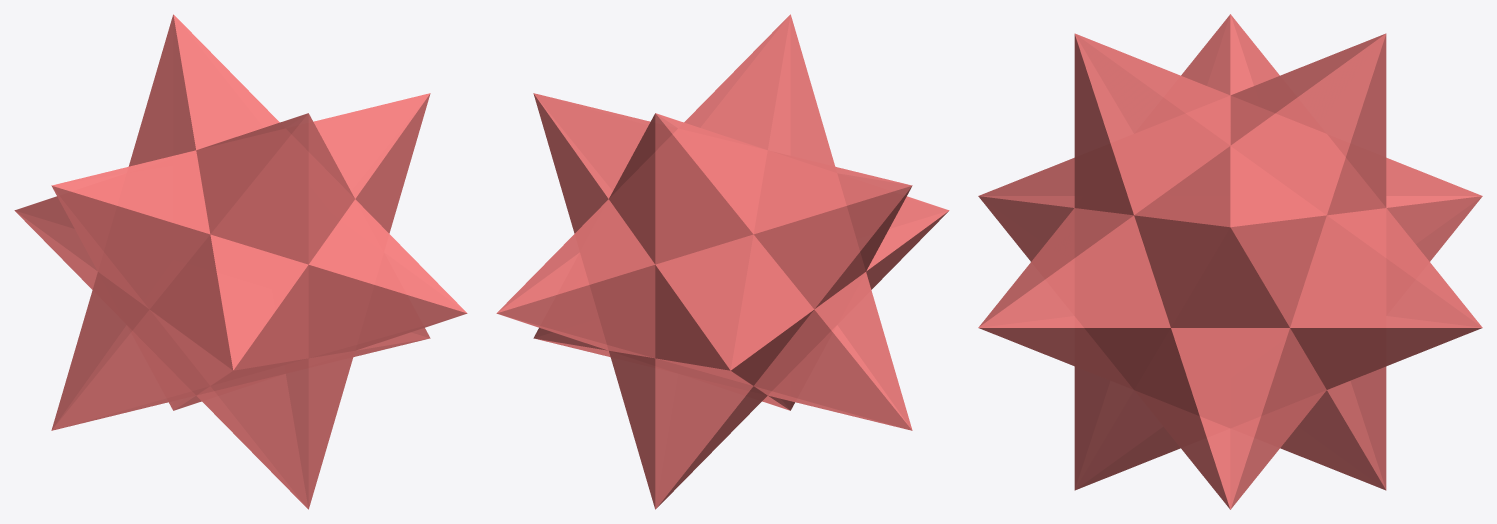
File: SmallStellatedDodecahedron.obj
The picture shows the model from 3 angles, left to right: view 1: azimuth 30°, elevation 25°; view 2: azimuth 150°, elevation 25°; view 3: azimuth 270°, elevation 25°; orthographic projection. The views are drawn at different scales.
Size of the model in its own units: 1 by 1 by 1.
